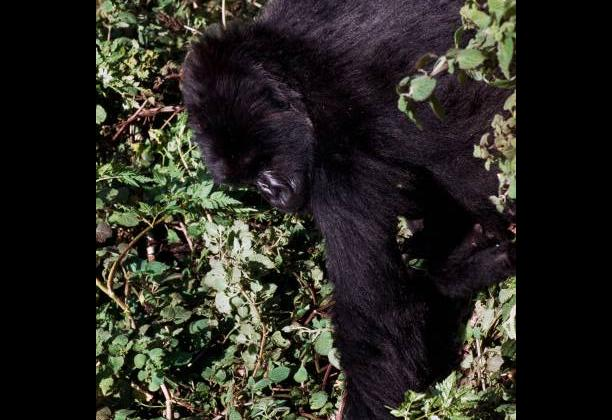goriile_montagne: (178, 0, 468, 233)
